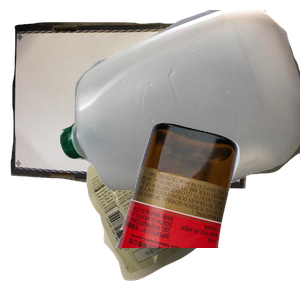cardboard: (10, 19, 250, 199)
glass: (113, 120, 300, 300)
plastic: (60, 10, 300, 190)
trash: (84, 126, 291, 300)
